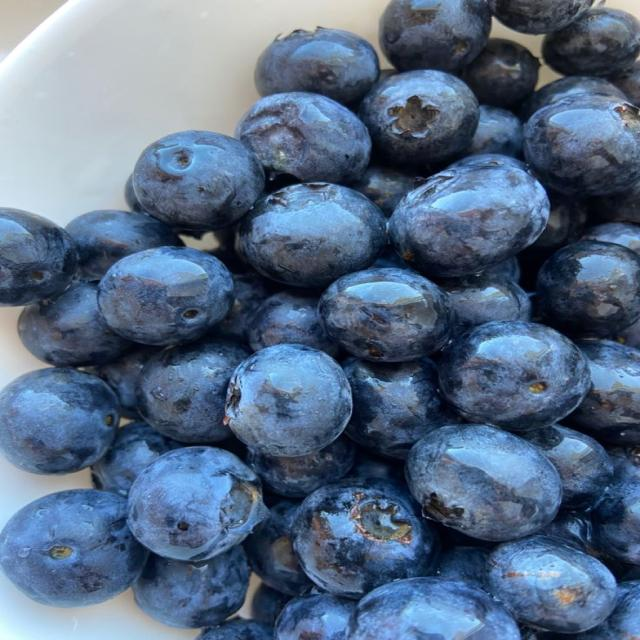blueberry: (406, 425, 562, 540), (389, 166, 549, 277), (293, 479, 439, 598), (0, 489, 146, 606), (440, 321, 590, 431), (127, 447, 267, 561), (240, 183, 387, 287), (225, 344, 352, 456), (99, 247, 233, 345), (134, 131, 264, 230), (0, 368, 119, 474), (488, 535, 615, 633), (319, 269, 452, 362), (236, 92, 371, 183), (138, 338, 249, 443), (524, 94, 639, 195), (360, 70, 479, 164), (343, 358, 451, 459), (348, 578, 520, 639), (537, 241, 639, 336), (18, 282, 133, 366), (254, 28, 379, 104), (133, 547, 249, 628), (67, 210, 182, 281), (380, 0, 490, 72), (520, 425, 613, 508), (0, 208, 78, 305), (567, 340, 639, 444), (543, 7, 639, 76), (247, 436, 355, 497), (92, 422, 179, 497), (244, 501, 311, 595), (248, 290, 339, 357), (439, 274, 531, 337), (461, 38, 539, 108), (86, 346, 158, 419), (520, 76, 626, 121), (212, 271, 277, 343), (527, 192, 587, 259), (593, 477, 639, 564), (350, 164, 419, 217), (275, 594, 355, 639), (580, 580, 639, 639), (488, 0, 593, 33), (466, 106, 522, 156), (537, 509, 596, 556), (207, 224, 255, 275), (435, 547, 489, 589), (590, 181, 639, 223), (348, 448, 404, 482), (580, 222, 639, 253), (251, 583, 291, 626), (195, 618, 273, 639), (610, 61, 639, 105), (447, 154, 526, 170), (607, 445, 639, 482), (481, 256, 521, 282), (369, 246, 410, 269), (610, 321, 639, 349), (124, 174, 143, 212)
